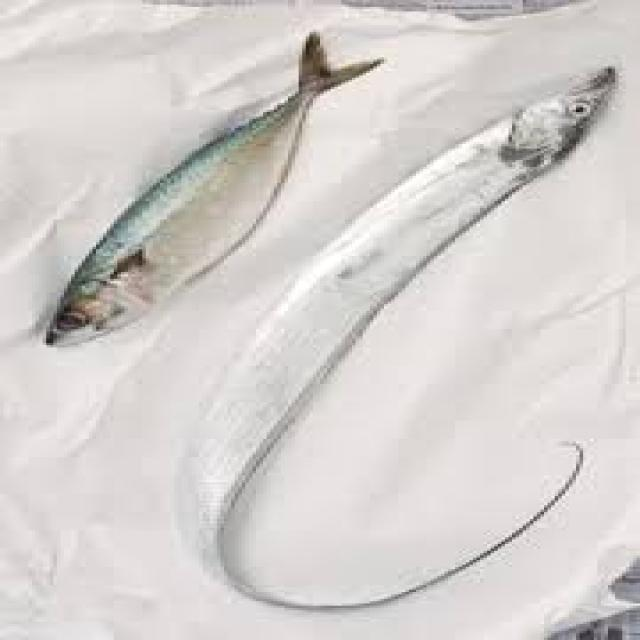fish: (46, 31, 379, 345)
